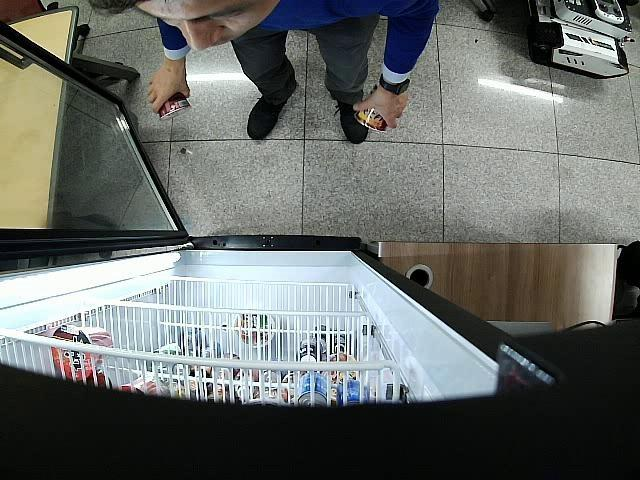06_nuguri_S: (355, 83, 387, 132), (158, 92, 192, 120)
